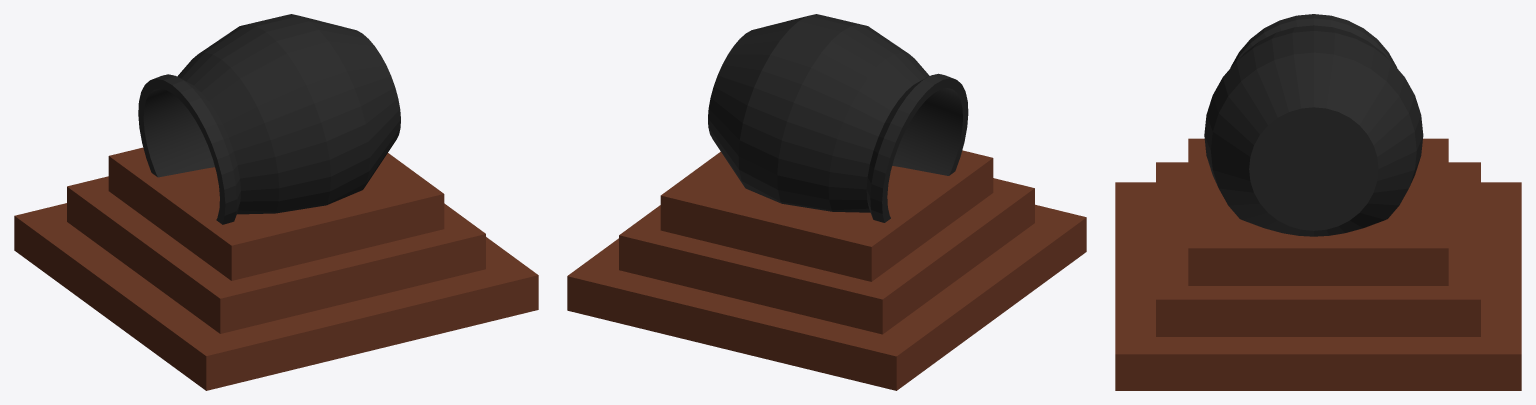
The model's file is barrilC.fbx.
The picture shows the model from 3 angles, left to right: view 1: azimuth 30°, elevation 25°; view 2: azimuth 150°, elevation 25°; view 3: azimuth 270°, elevation 25°; orthographic projection. The views are drawn at different scales.
Visible parts, largest first — view 1: Circle.018; view 2: Circle.018; view 3: Circle.018.
Boxes of the visible parts, box(x1,y1,x2,y2) form: Circle.018: box(14, 14, 538, 390); Circle.018: box(567, 14, 1086, 390); Circle.018: box(1115, 14, 1521, 390).
Bounding box in the file's own units: 1265 × 922 × 1265.
